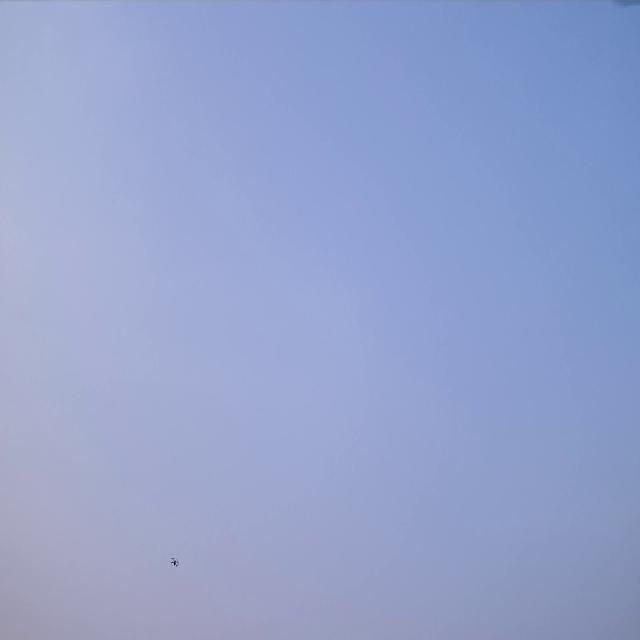UAV: (172, 559, 178, 566)
